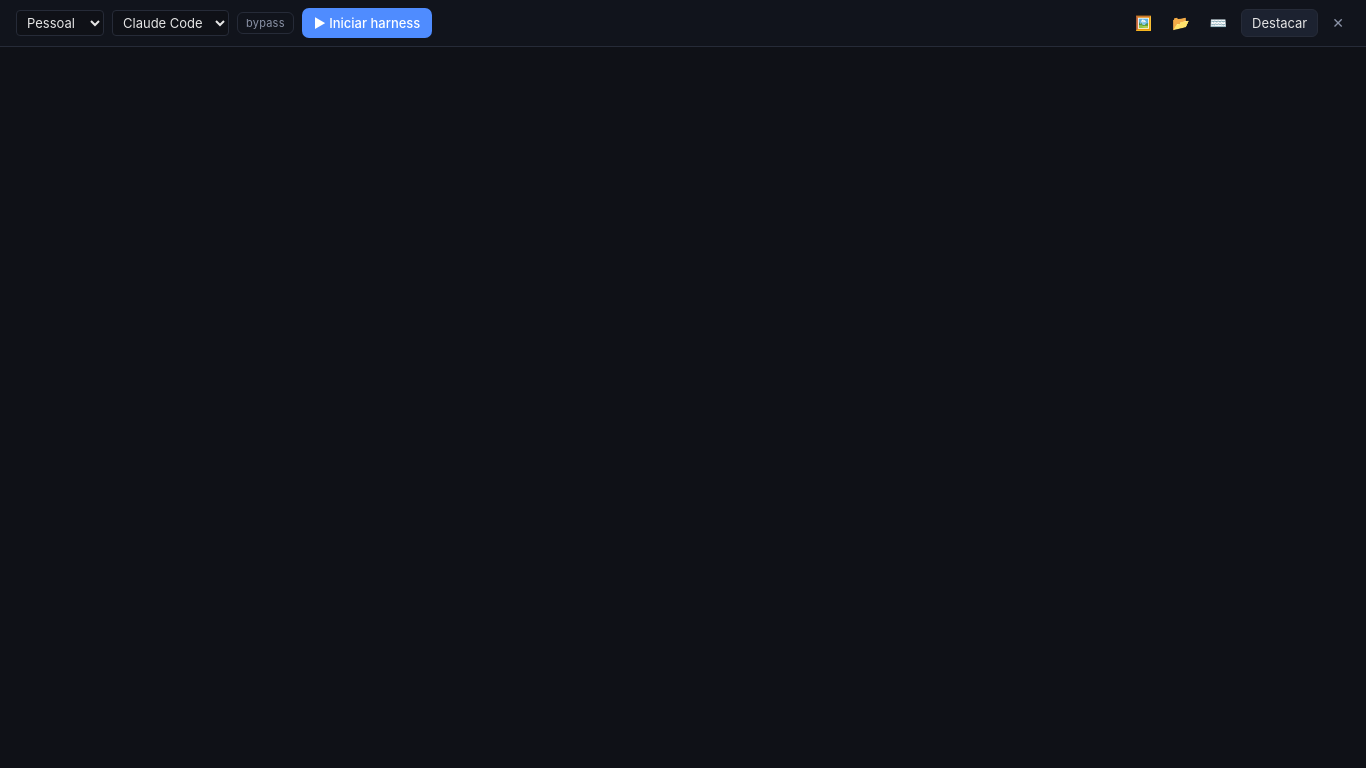
Scenario: SessionBar: destacar (Fase 8) › botão direito na barra abre menu de contexto
Right-click the element named "Espaço": coordinates (683, 24) [0,0,1365,47]
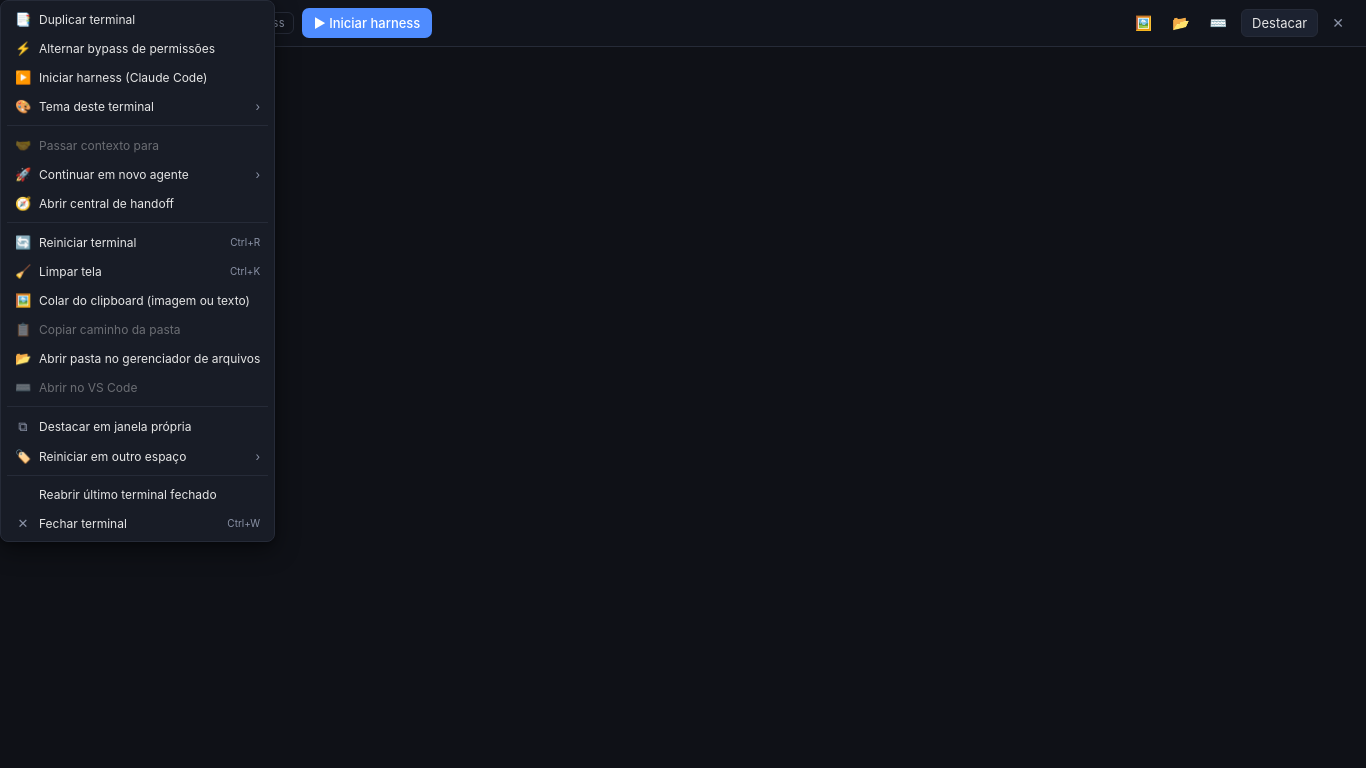
Now the text "Reiniciar terminal" is shown, box [39,234,136,250]
Now the text "Duplicar terminal" is shown, box [39,12,135,26]
